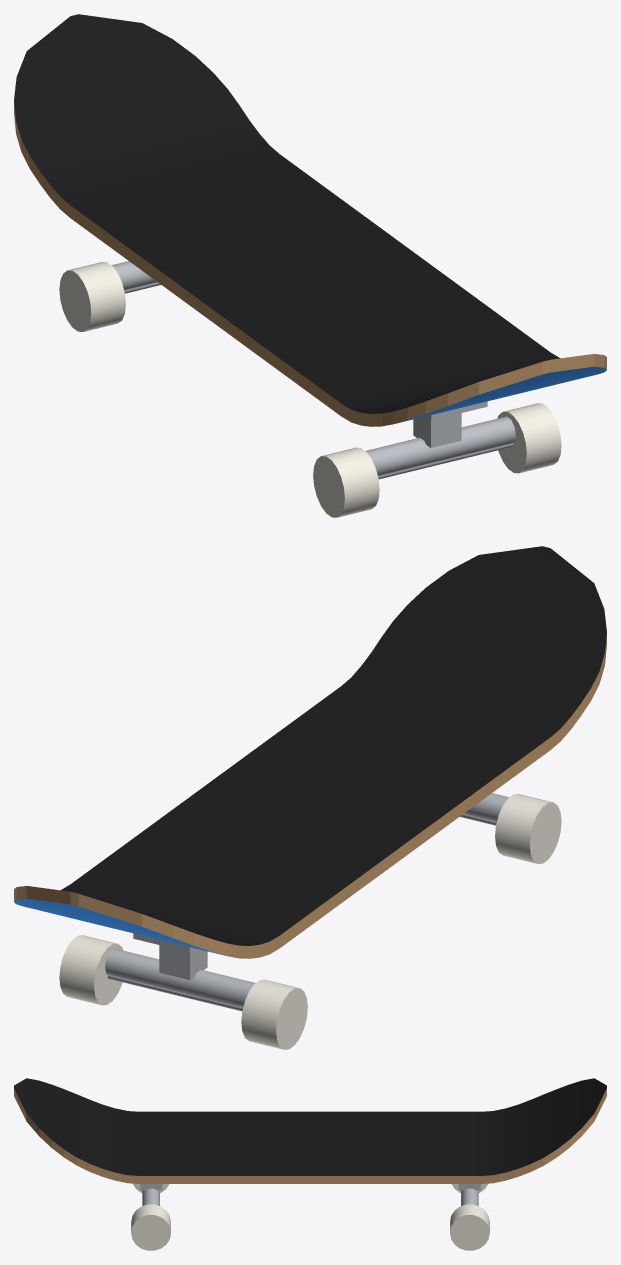
Rendered from board.glb.
3 views of the same model, one above another, from view 1: azimuth 30°, elevation 25°; view 2: azimuth 150°, elevation 25°; view 3: azimuth 270°, elevation 25° (orthographic). The views are drawn at different scales.
Visible parts, largest first — view 1: Board; view 2: Board; view 3: Board.
Part boxes in pixels (x1,y1,x2,y2): Board: [14, 14, 606, 517]; Board: [14, 546, 606, 1049]; Board: [14, 1078, 606, 1250].
Size of the model in its own units: 0.212 by 0.1946 by 0.8.
